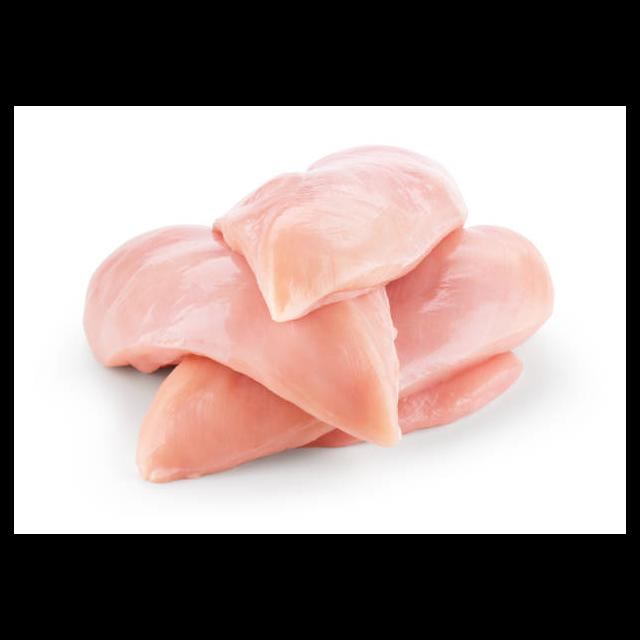chicken: (81, 144, 553, 480)
